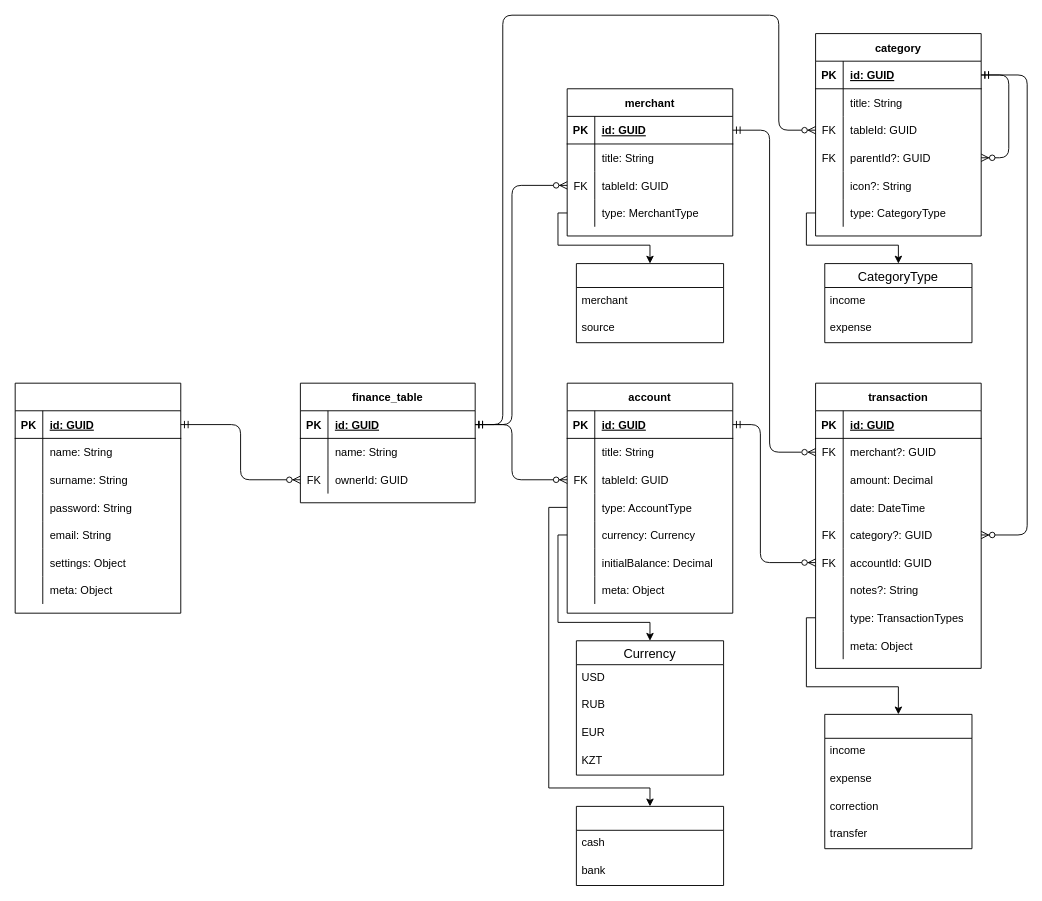
Some shapes in this 1042 by 901 pixel diagram are drawn without their labels. Here are the shapes that lost their labels. From the top down, the box of each, then its label:
(575, 263, 724, 343): MerchantType
(14, 382, 181, 613): user
(824, 713, 972, 849): TransactionType
(575, 805, 724, 886): AccountType
